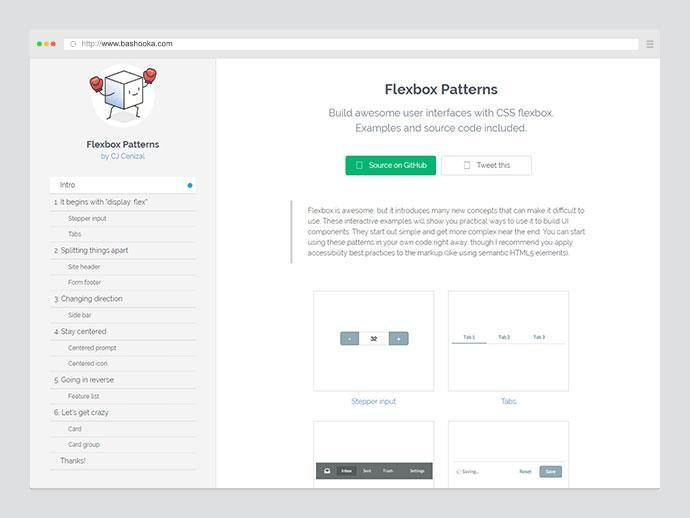button: (442, 155, 532, 177), (347, 156, 437, 176)
